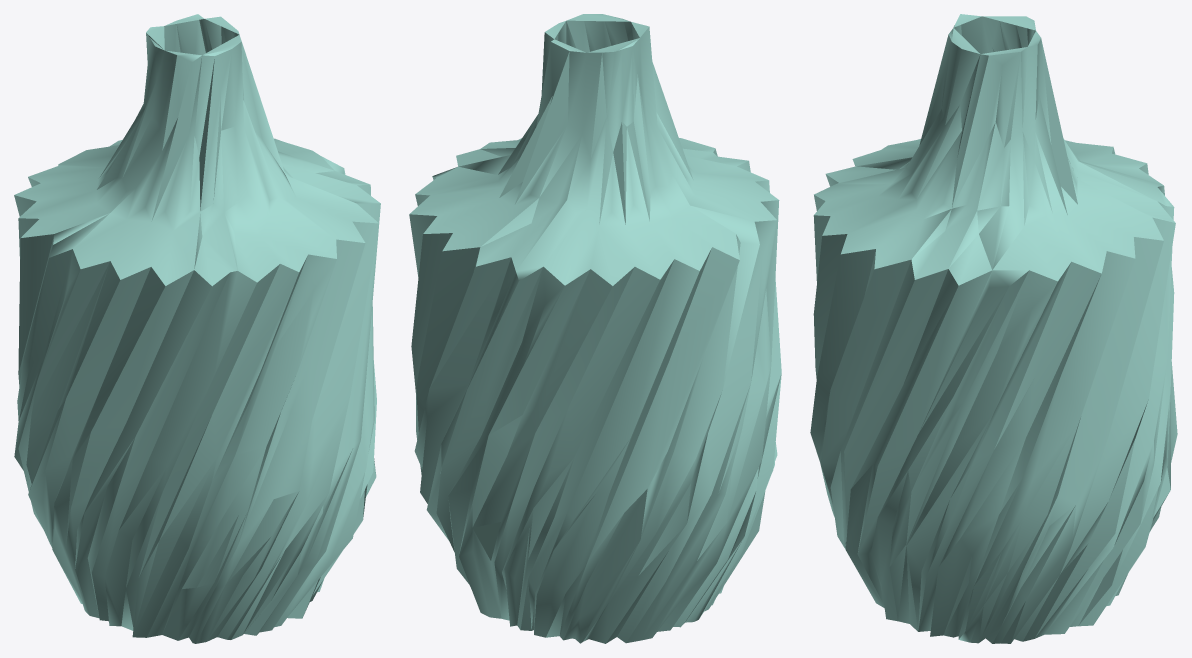
The model's file is Vase0001.obj.
3 views of the same model, side by side, from view 1: azimuth 30°, elevation 25°; view 2: azimuth 150°, elevation 25°; view 3: azimuth 270°, elevation 25° (orthographic).
Size of the model in its own units: 0.218 by 0.369 by 0.218.
Materials: 1 (1 with a texture image).
